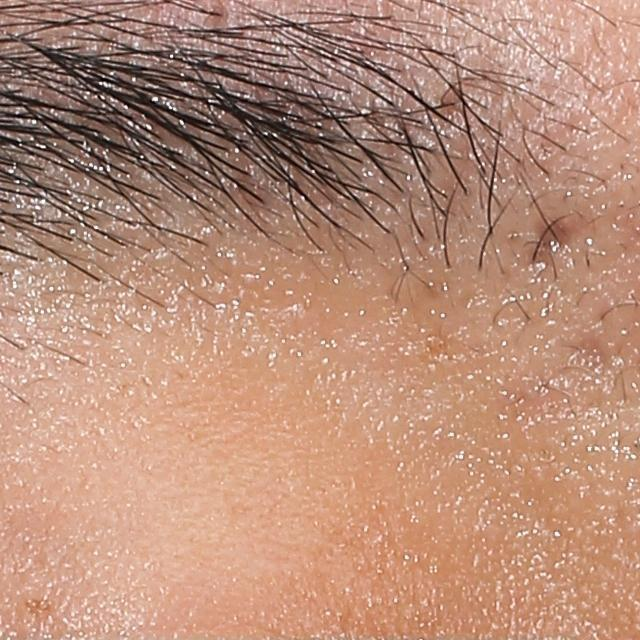atrophic_scar: (501, 209, 593, 290), (429, 63, 519, 140)
